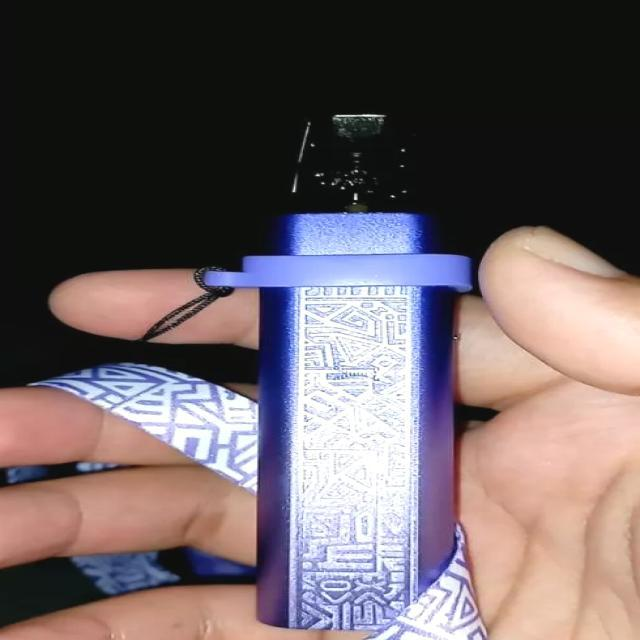Hazard: (197, 110, 478, 632)
